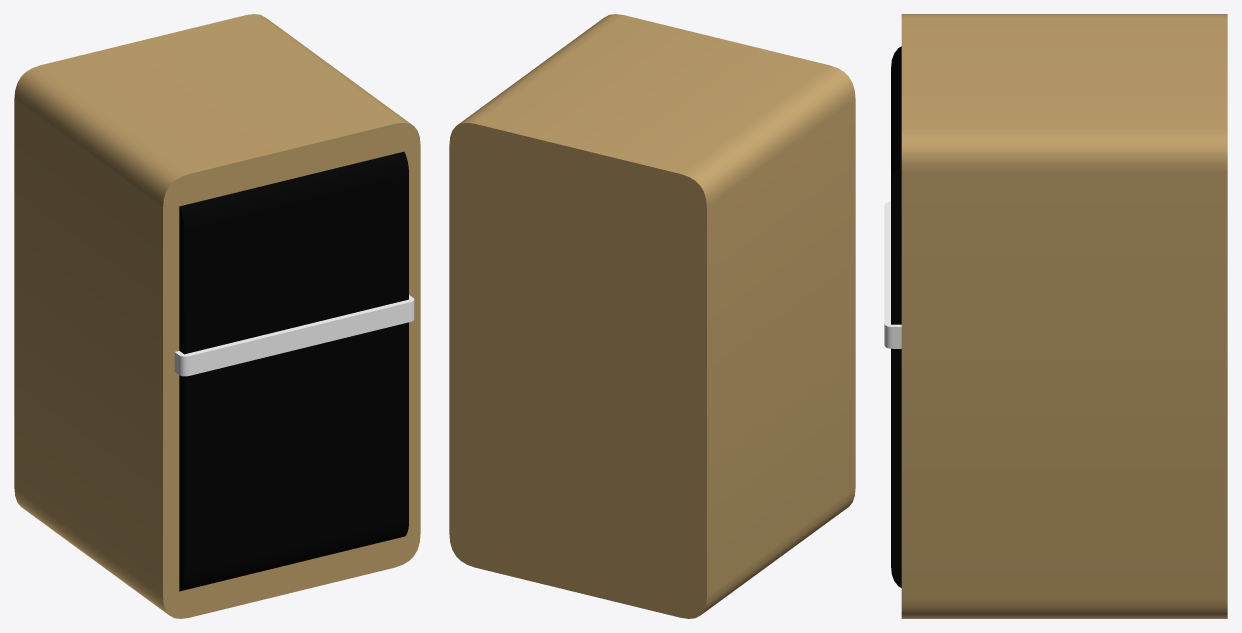
Rendered from speaker1.glb.
The picture shows the model from 3 angles, left to right: view 1: azimuth 30°, elevation 25°; view 2: azimuth 150°, elevation 25°; view 3: azimuth 270°, elevation 25°; orthographic projection. The views are drawn at different scales.
Parts seen in each view (by area): view 1: Box001, Box002, Box003; view 2: Box001; view 3: Box001, Box002, Box003.
Part boxes in pixels (x1,y1,x2,y2): Box001: (14,14,420,618); Box002: (179,151,408,591); Box003: (174,295,414,376); Box001: (449,14,855,618); Box001: (901,14,1227,618); Box002: (891,46,901,587); Box003: (884,201,901,348).
Bounding box in the file's own units: 0.4974 × 0.8193 × 0.524.
